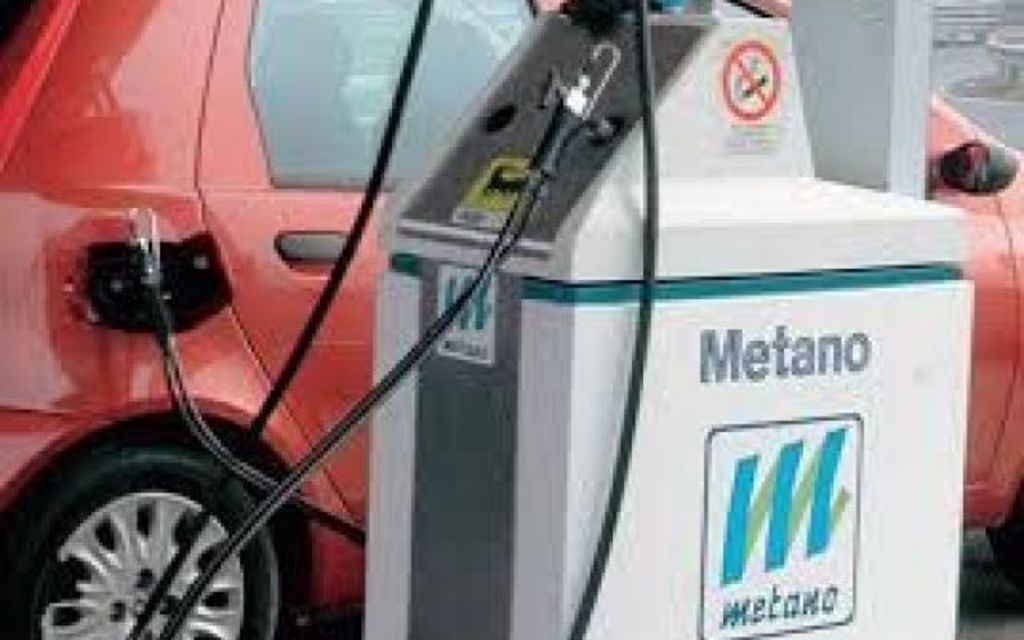Car: (0, 0, 1022, 638)
